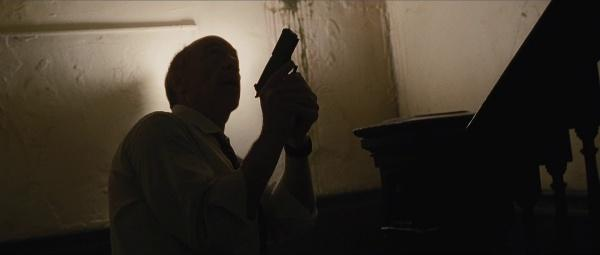Gun: (254, 28, 301, 100)
